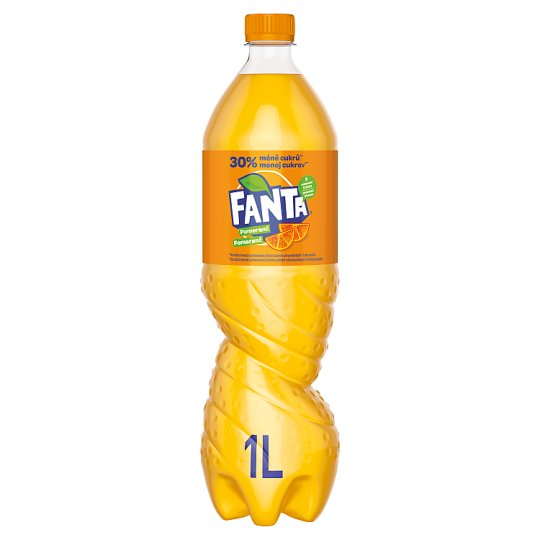Fanta: (192, 10, 340, 535)
